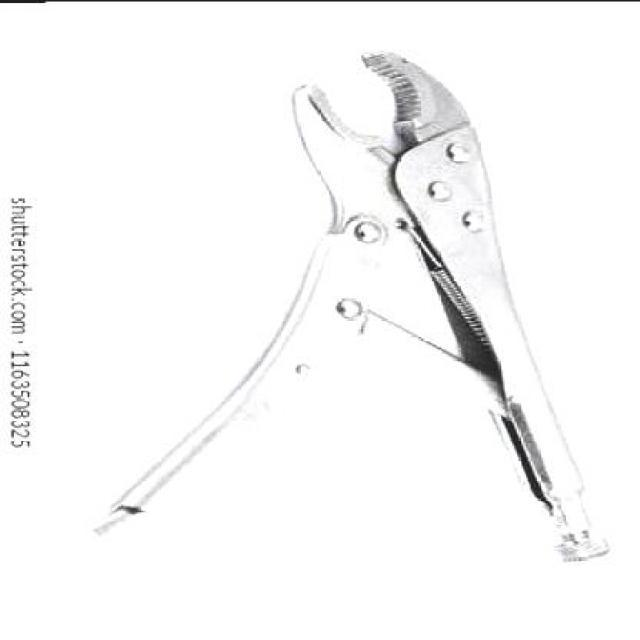pliers: (76, 50, 615, 562)
